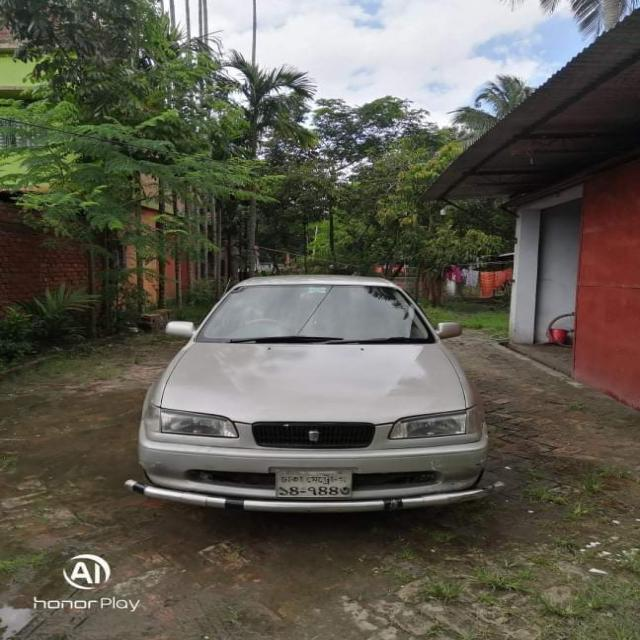silver: (137, 267, 491, 509)
